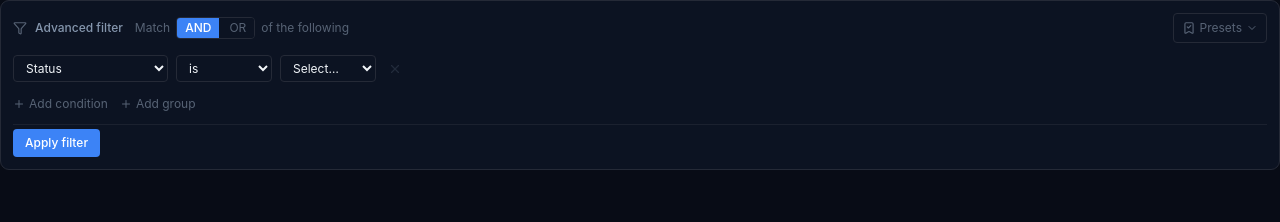
it: FilterBuilder › removes a condition row when the remove button is clicked
Add a second condition
Click the button "Add condition".
click(60, 104)  # box [13,96,108,112]
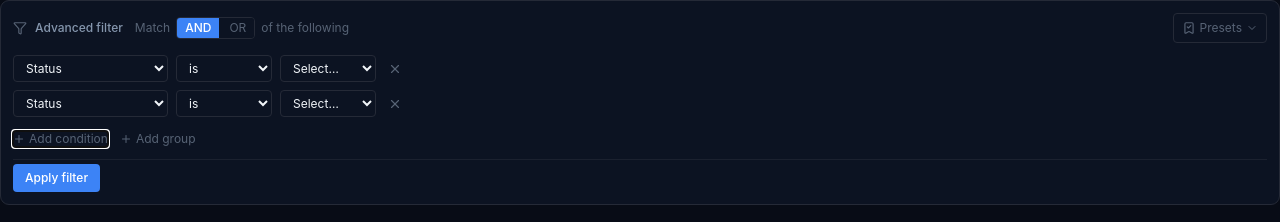
Result: the number of dropdowns named "Filter field" is 2 at [13,55,168,82]; [13,90,168,117]
Remove the first one
Click the 1st button named "Remove condition".
click(395, 68)  # box [384,58,406,80]
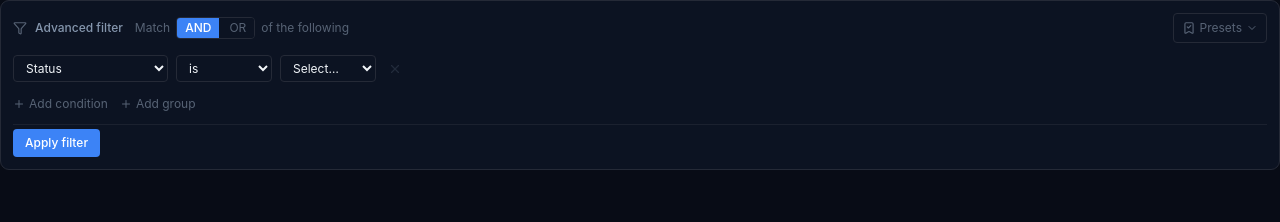
Result: the number of dropdowns named "Filter field" is 1 at [13,55,168,82]
